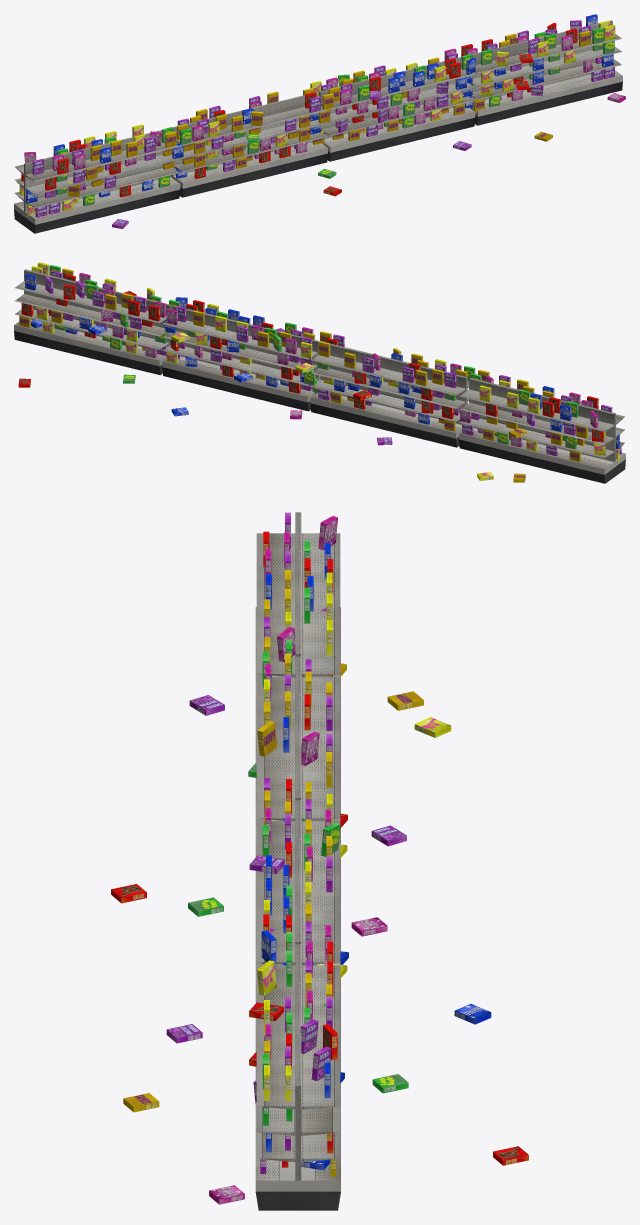
File: Messy_Cereal_Shelf_Medium.fbx
3 views of the same model, one above another, from view 1: azimuth 30°, elevation 25°; view 2: azimuth 150°, elevation 25°; view 3: azimuth 270°, elevation 25° (orthographic). The views are drawn at different scales.
Visible parts, largest first — view 1: Messy_Cereal_Shelf_Medium; view 2: Messy_Cereal_Shelf_Medium; view 3: Messy_Cereal_Shelf_Medium.
Part boxes in pixels (x1,y1,x2,y2): Messy_Cereal_Shelf_Medium: (14, 14, 625, 233); Messy_Cereal_Shelf_Medium: (14, 262, 625, 483); Messy_Cereal_Shelf_Medium: (111, 512, 528, 1210).
Bounding box in the file's own units: 1892 × 201 × 582.
